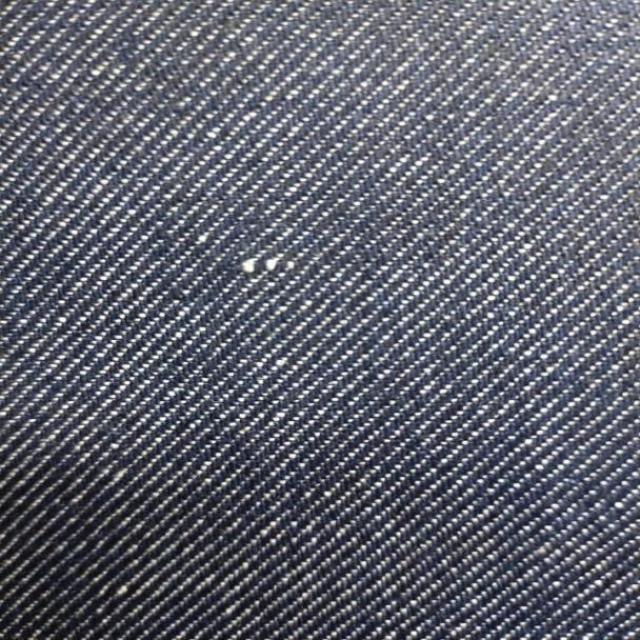Knot: (241, 255, 296, 274)
